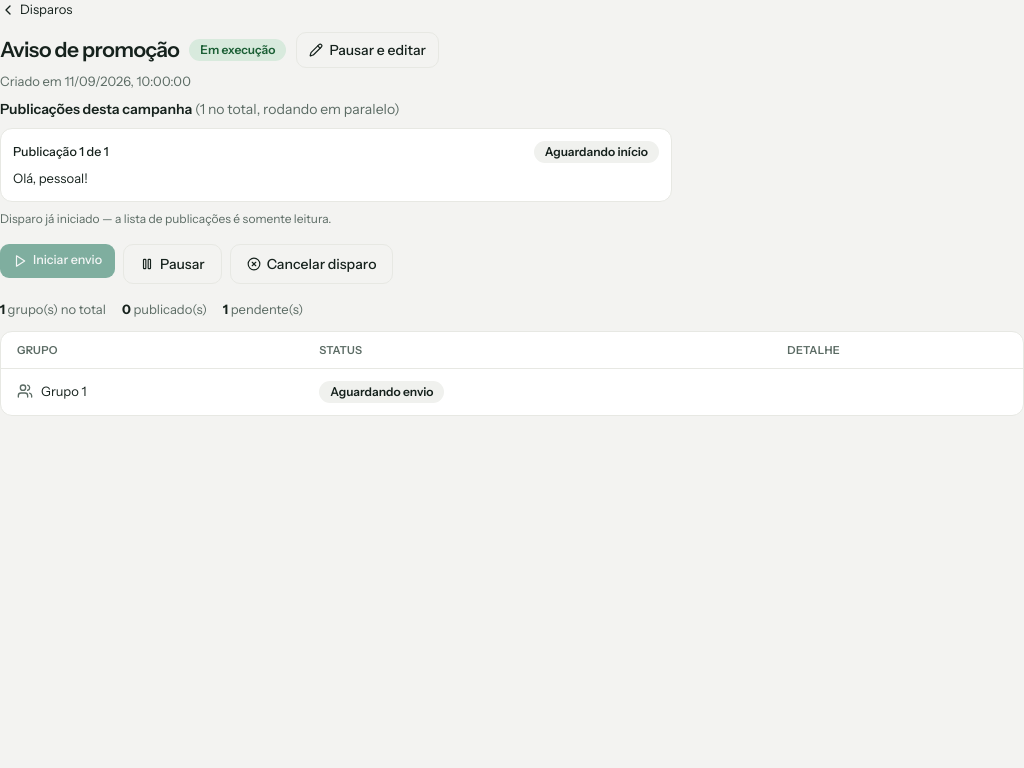
Test: GroupBroadcastDetailPanel — editar e retomar-com-escolha (Task 9, 2026-09-15) › num disparo RUNNING, o botão vira "Pausar e editar" e pede confirmação antes
The width and height of the screenshot is (1024, 768).
Check: the heading "Aviso de promoção" is shown, box [0,34,179,66]
Click the button "Pausar e editar" at (368, 50), box [296,32,439,68]
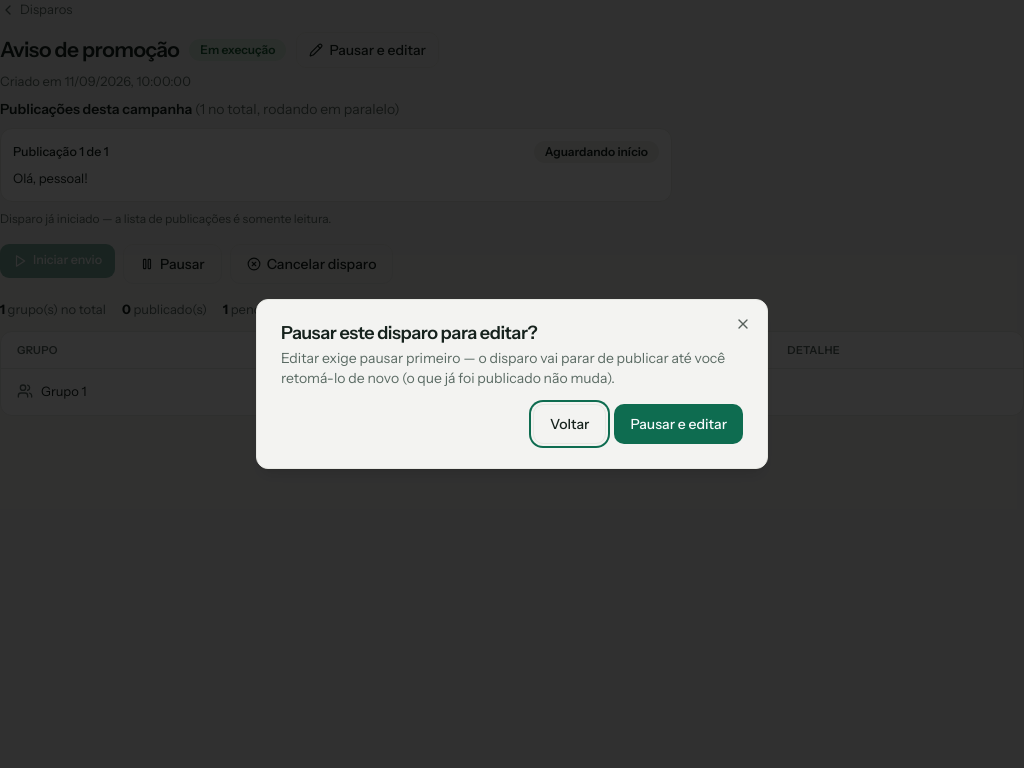
Check: the heading "Pausar este disparo para editar?" is shown, box [281,322,537,344]
